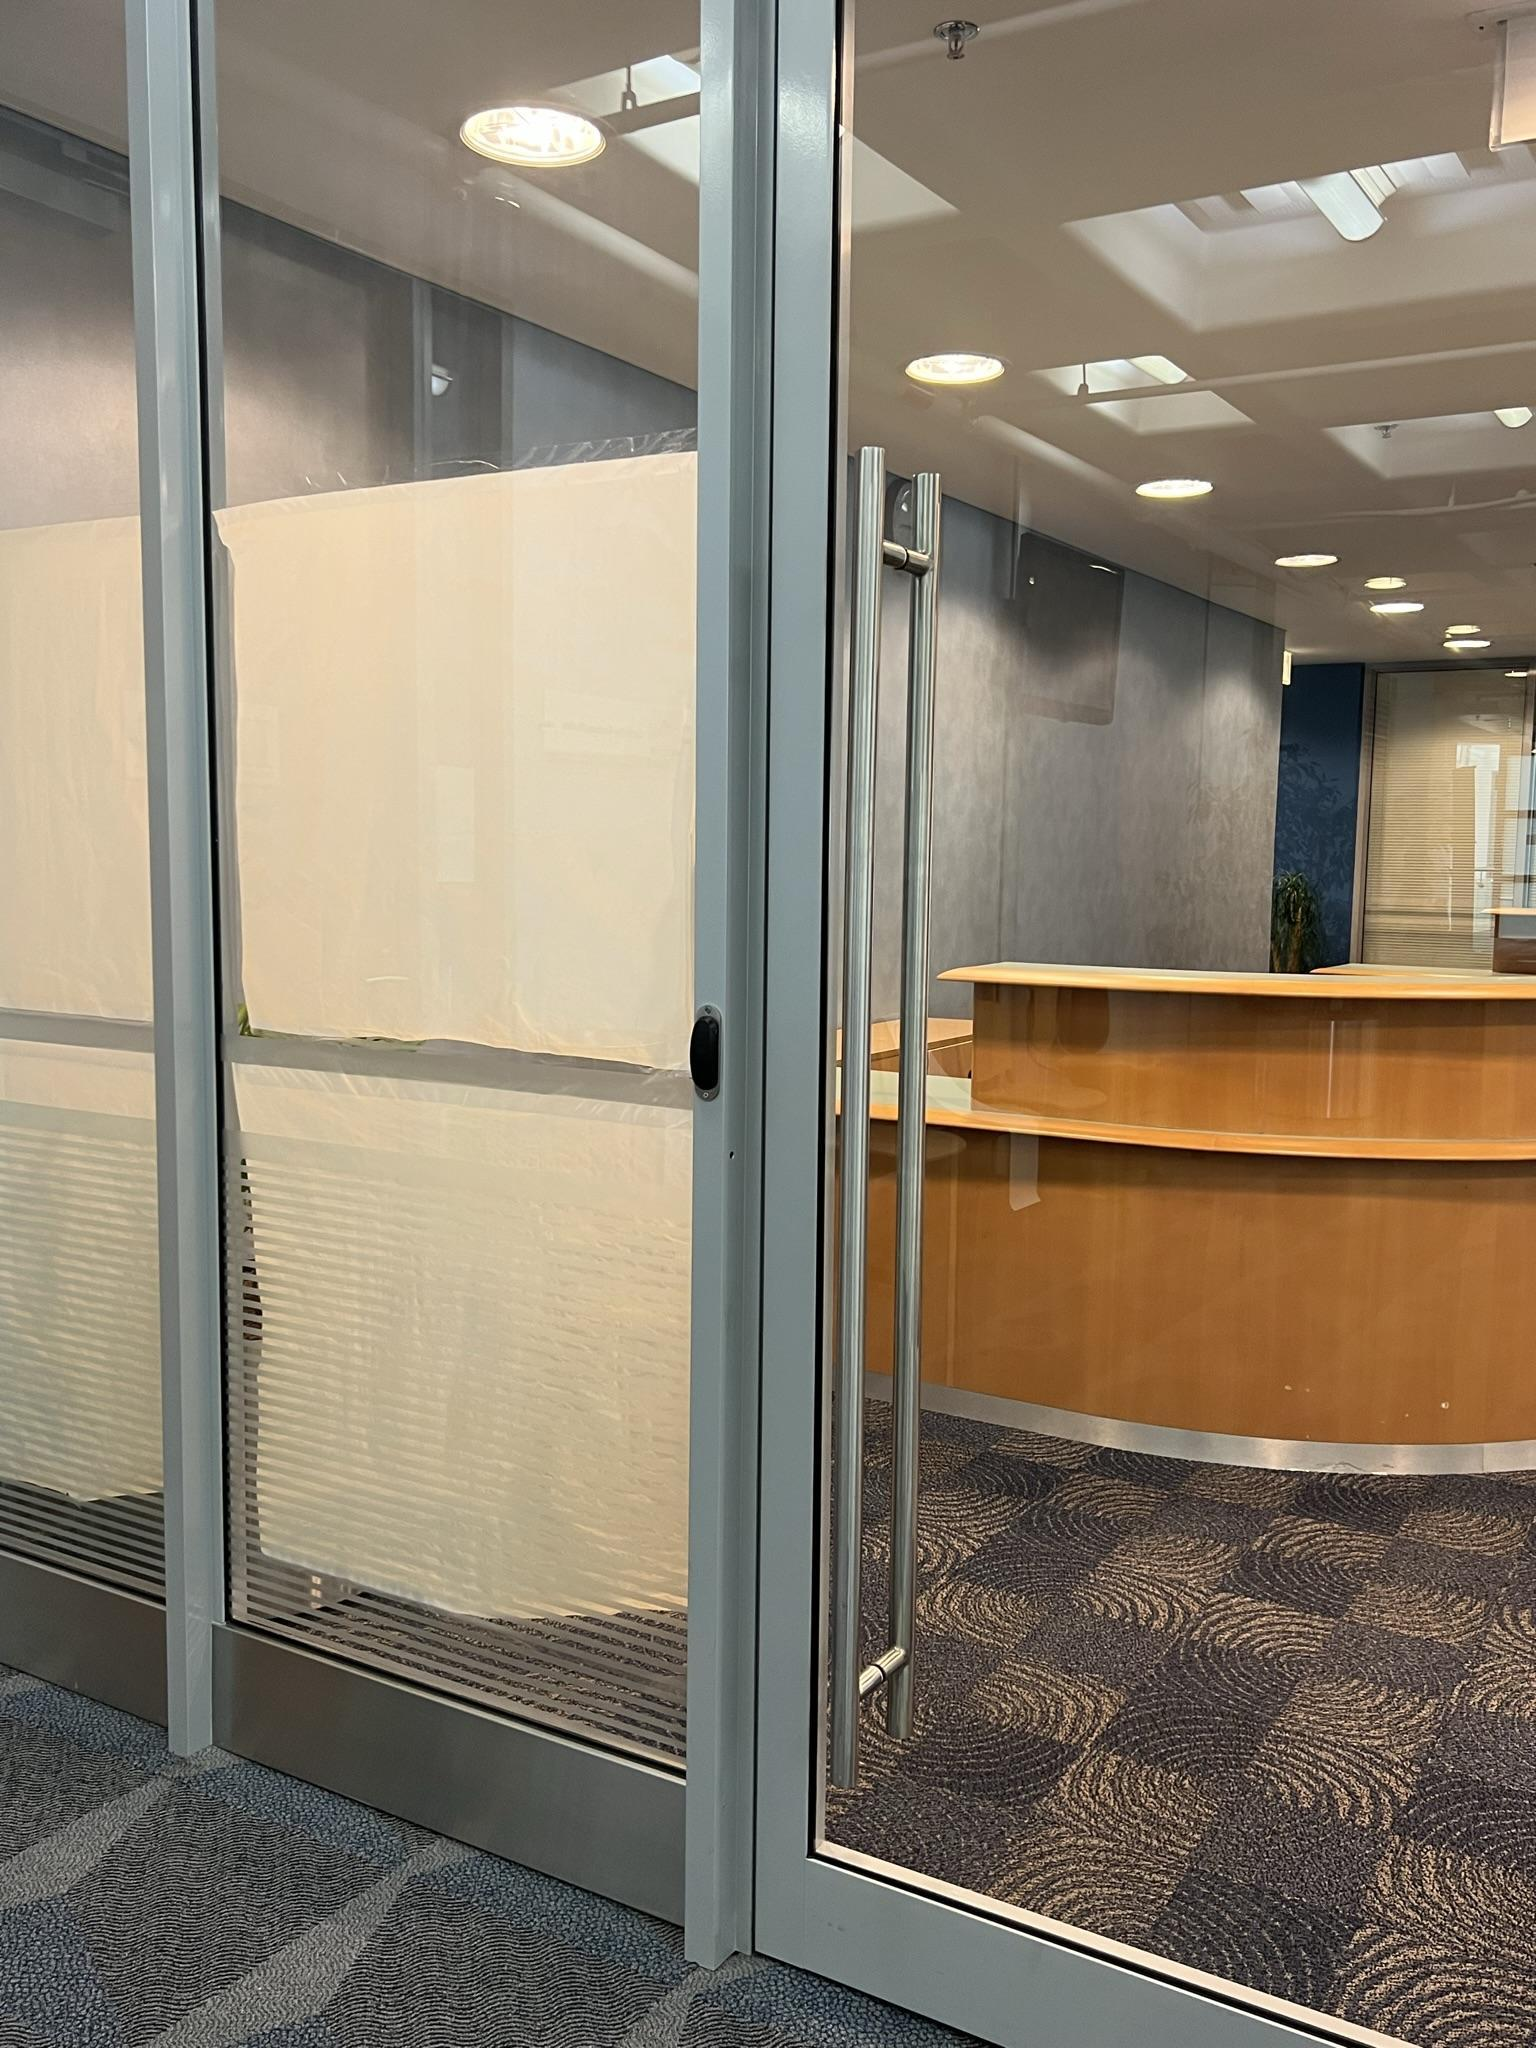door: (762, 2, 1536, 2048)
handle: (842, 421, 881, 1798)
